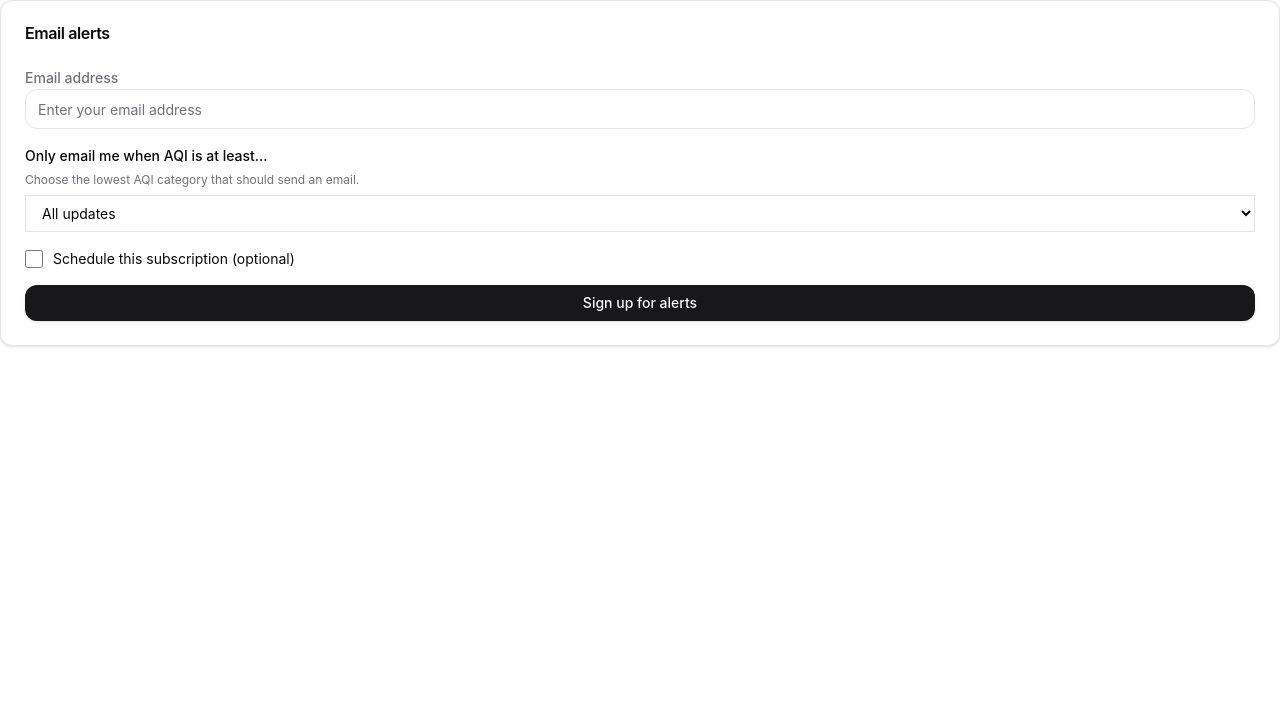
Test: SubscriptionForm › shows start date and end date inputs when schedule checkbox is ticked
Expected: the field labelled "start date" is not shown
Expected: the field labelled "end date" is not shown
// Tick the checkbox
Click the checkbox.
click(34, 259)  # box [25,250,43,268]
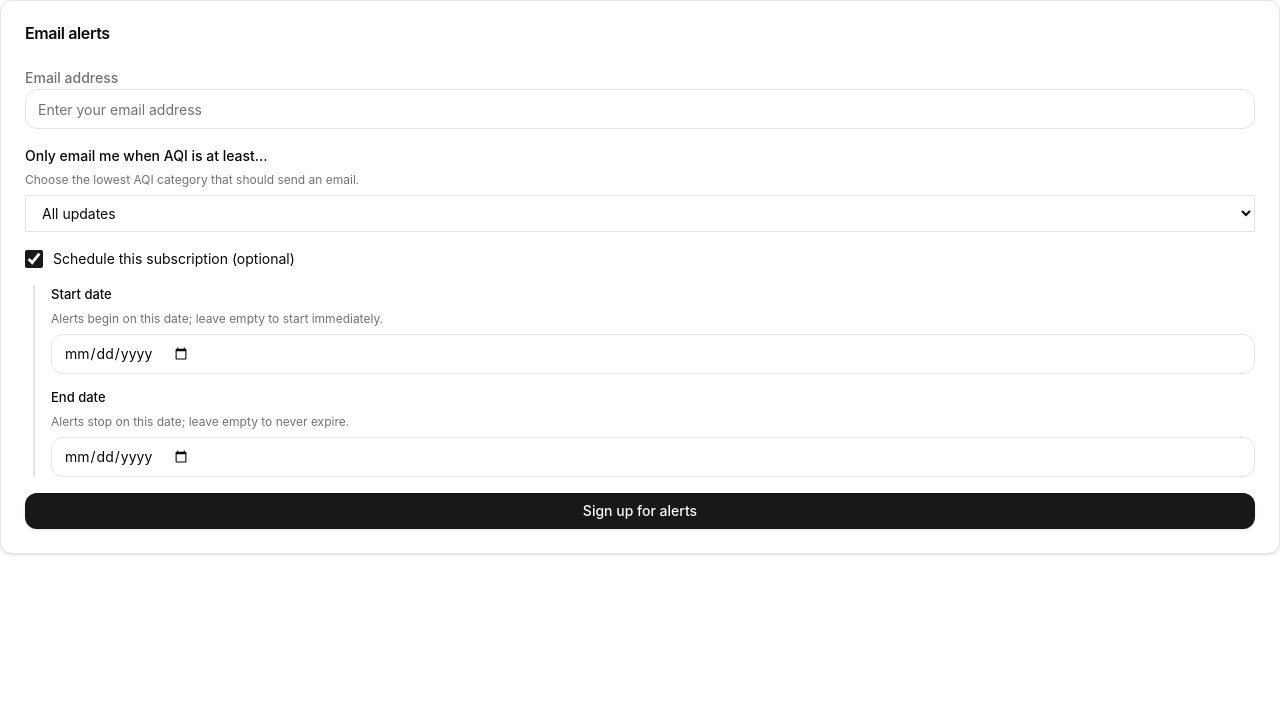
Result: the date field labelled "Start date" is shown at [51,334,1255,374]
Result: the date field labelled "End date" is shown at [51,437,1255,477]
